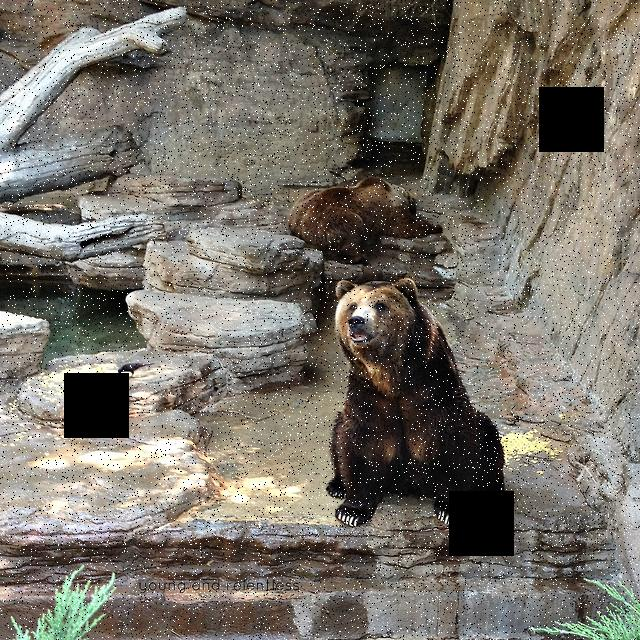Bear: (328, 275, 504, 527), (291, 175, 445, 261)
